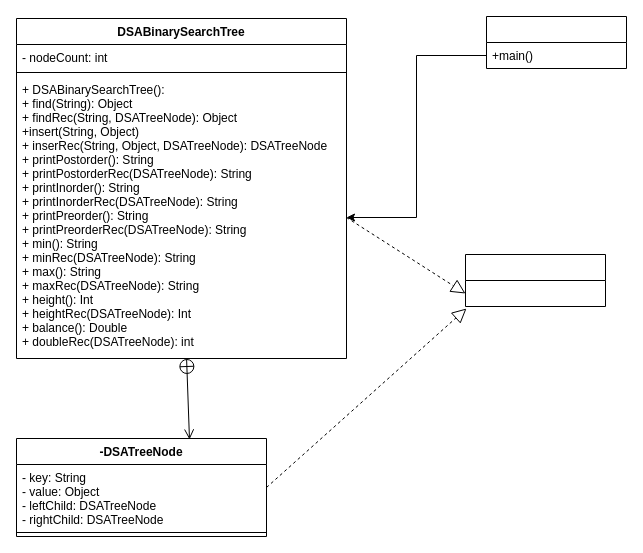
Image size: 643x553. Some labels were removed from this diagram. Each missing label, with the box of its shape:
BSTProgram: (486, 16, 626, 68)
Serializable: (464, 254, 606, 306)
